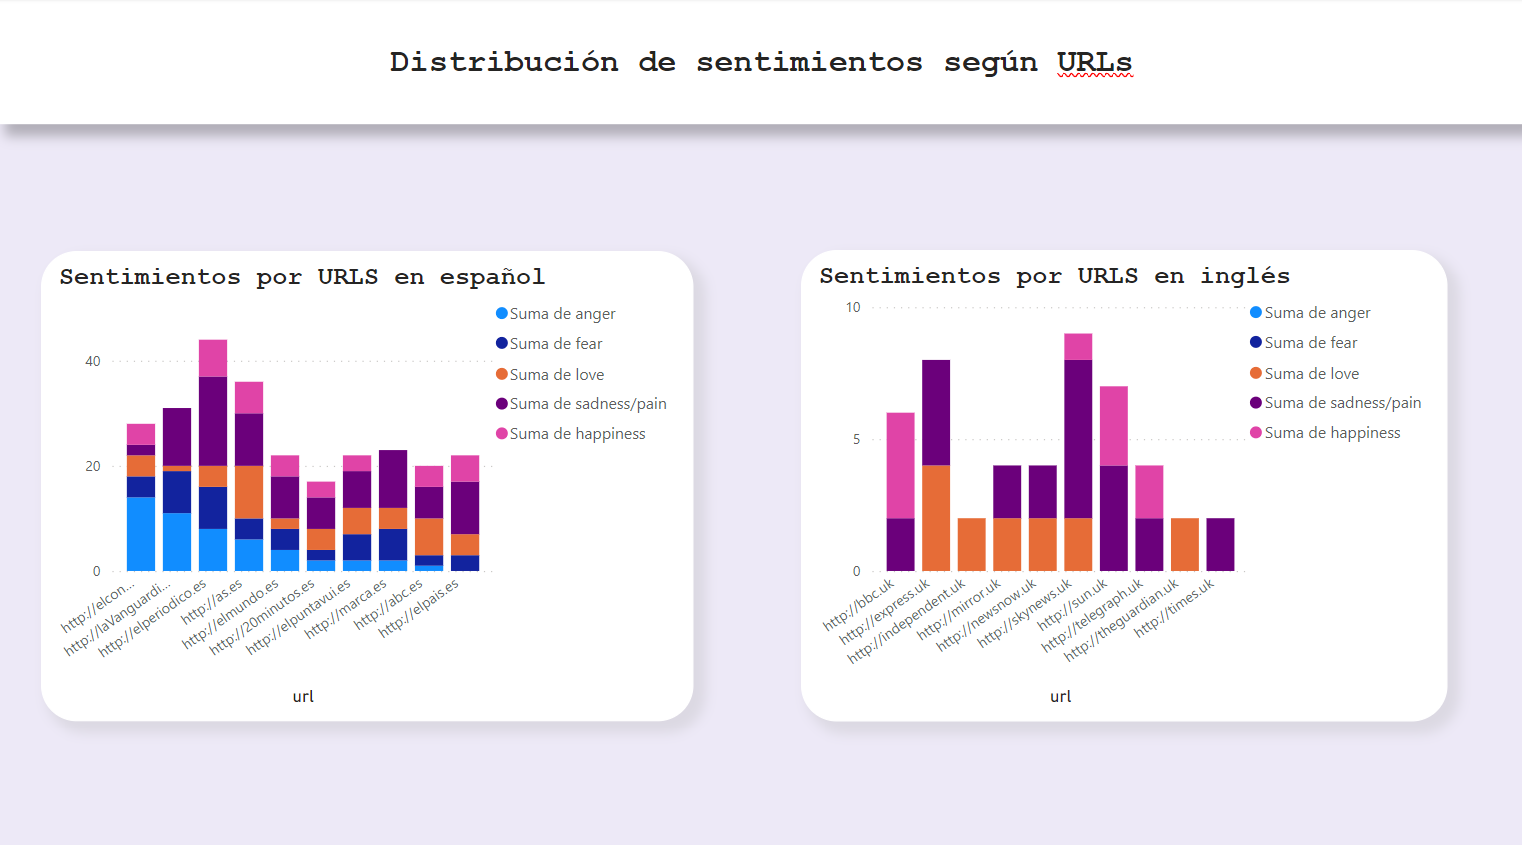

What the dashboard file says about the page in this screenshot:
{"tool":"powerbi","page":{"name":"Análisis de urls","canvas":[1280,720],"ordinal":2},"visuals":[{"type":"lineStackedColumnComboChart","title":"Sentimientos por URLS en español","fields":{"Y":["Sum(news.anger)","Sum(news.fear)","Sum(news.love)","Sum(news.sadness/pain)","Sum(news.happiness)"],"Category":["news.url"]},"box":[34.4,212.5,547.6,394.8],"z":0},{"type":"lineStackedColumnComboChart","title":"Sentimientos por URLS en inglés","fields":{"Y":["Sum(news.anger)","Sum(news.fear)","Sum(news.love)","Sum(news.sadness/pain)","Sum(news.happiness)"],"Category":["news.url"]},"box":[672.8,211.7,543.4,395.6],"z":1000},{"type":"textbox","box":[0,0,1280,105.8],"z":1001}]}

Visuals, with their boxes in screenshot pixels (x1, y1, x2, y2), scaled from the page's 1280x720 canvas onto the 1522x845 screenshot:
"Sentimientos por URLS en español" lineStackedColumnComboChart: {"x1": 41, "y1": 249, "x2": 692, "y2": 713}
"Sentimientos por URLS en inglés" lineStackedColumnComboChart: {"x1": 800, "y1": 248, "x2": 1446, "y2": 713}
textbox: {"x1": 0, "y1": 0, "x2": 1521, "y2": 124}
